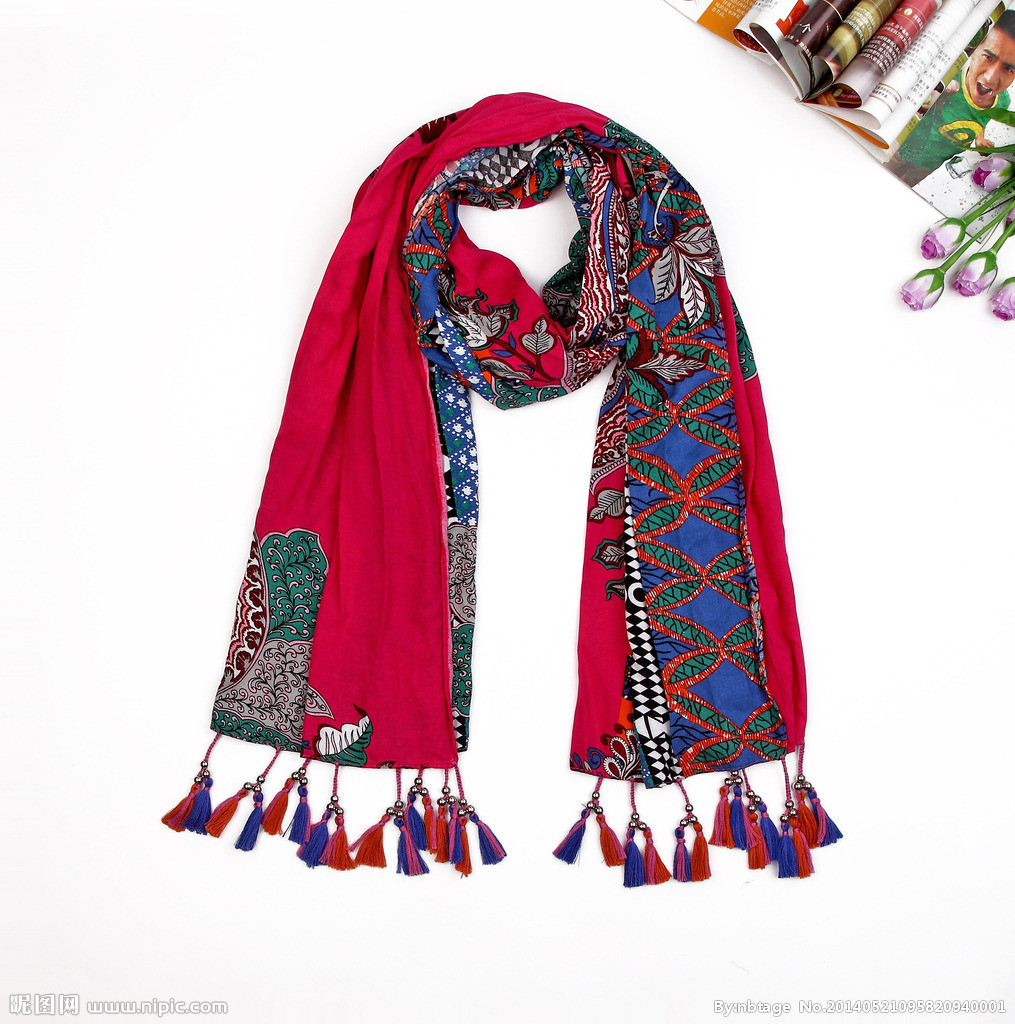flexible: (157, 93, 854, 883)
